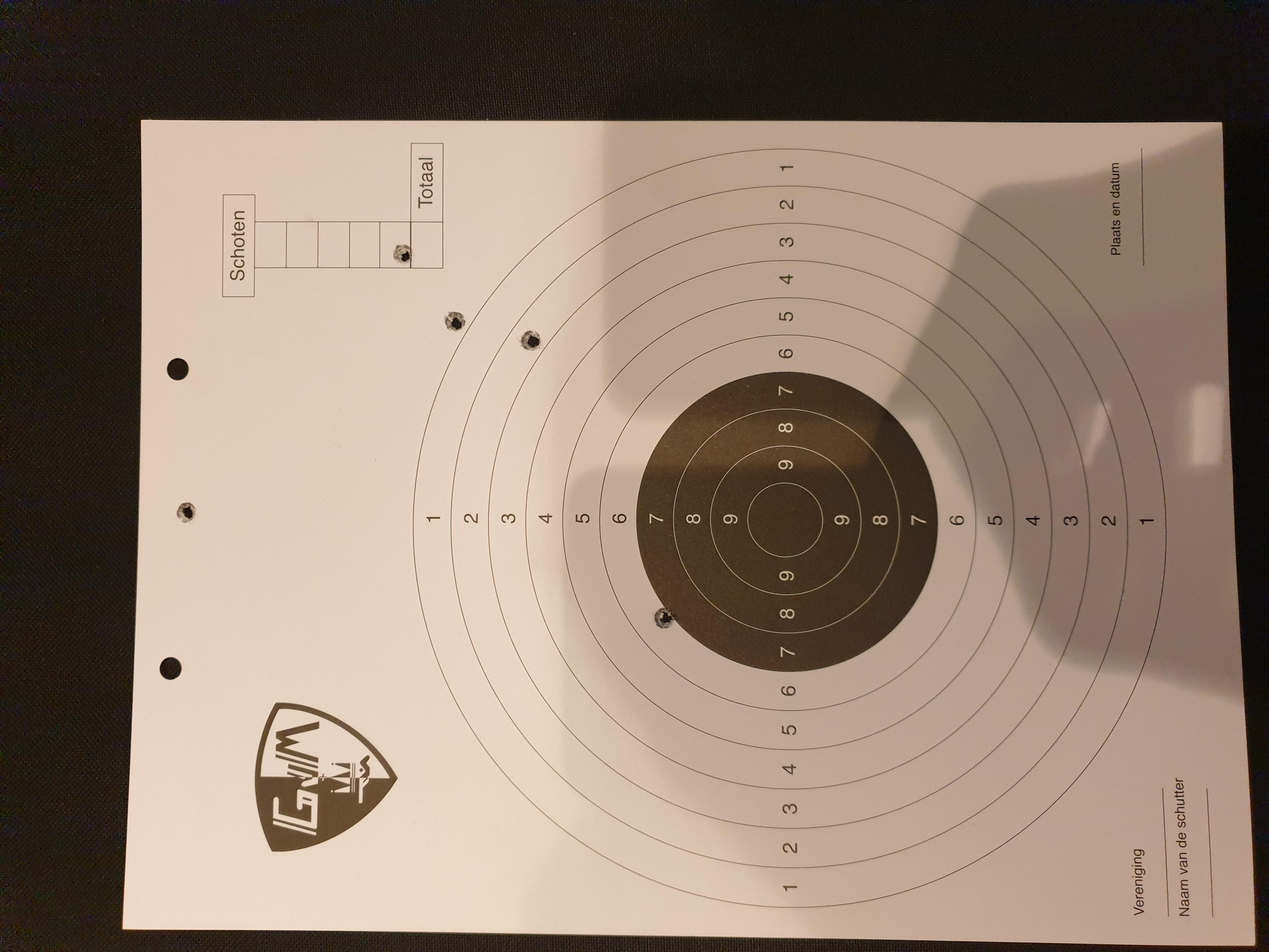hole: (429, 490, 461, 508), (801, 388, 829, 408), (825, 331, 856, 349), (569, 133, 601, 149), (916, 294, 946, 310)
